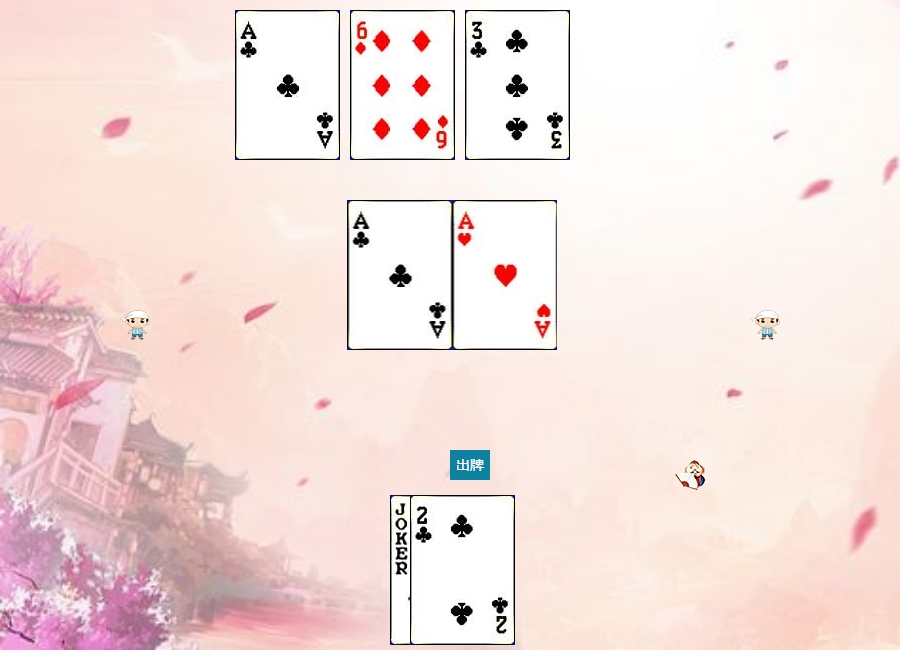14~2: (235, 10, 340, 160), (348, 200, 453, 350)
14~3: (453, 200, 558, 350)
15~2: (410, 495, 515, 645)
17~3: (390, 495, 495, 645)
3~2: (465, 10, 570, 160)
6~1: (350, 10, 455, 160)
